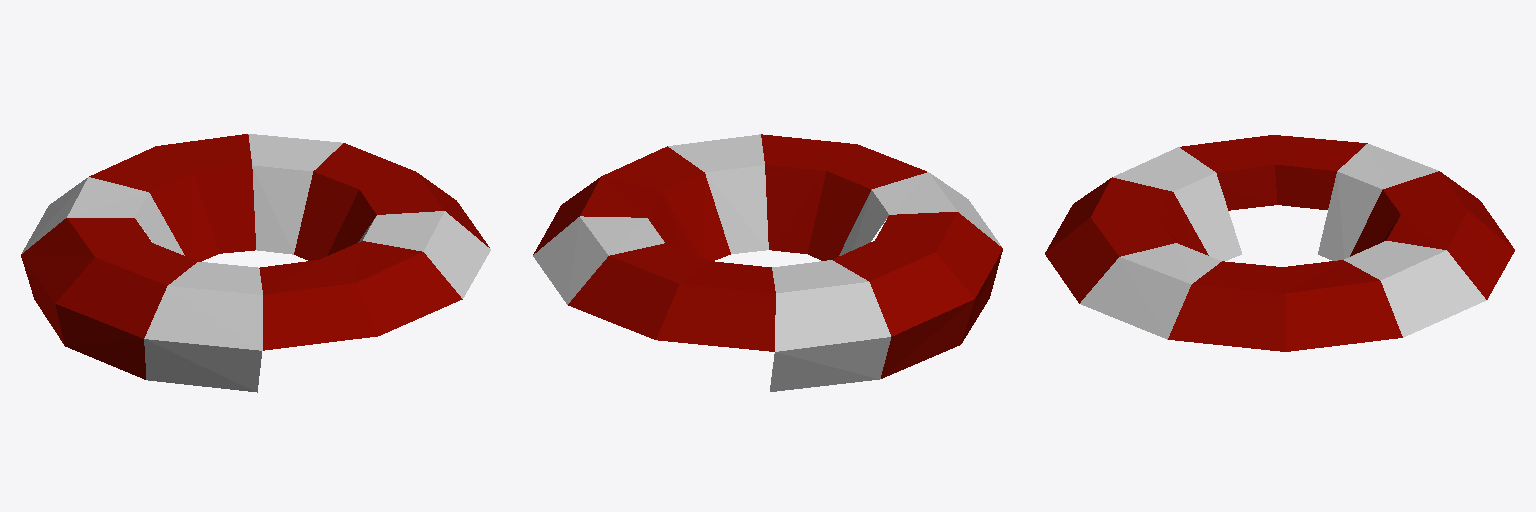
Rendered from Tube_LowPoly.obj.
The picture shows the model from 3 angles: view 1: azimuth 30°, elevation 25°; view 2: azimuth 150°, elevation 25°; view 3: azimuth 270°, elevation 25°; orthographic projection.
Visible parts, largest first — view 1: Torus.004; view 2: Torus.004; view 3: Torus.004.
Boxes of the visible parts, x1,y1,x2,y2 form: Torus.004: [21, 134, 490, 392]; Torus.004: [533, 134, 1002, 391]; Torus.004: [1045, 135, 1514, 351].
Bounding box in the file's own units: 0.8582 × 0.172 × 0.8582.